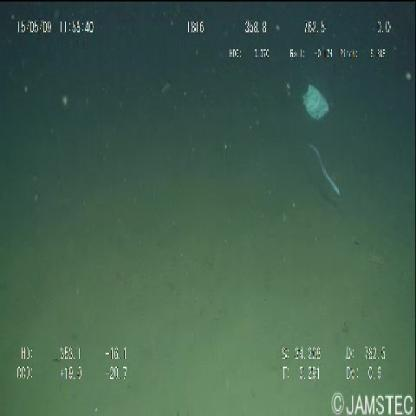Bio: (303, 132, 345, 206)
Rác: (296, 78, 333, 124)
